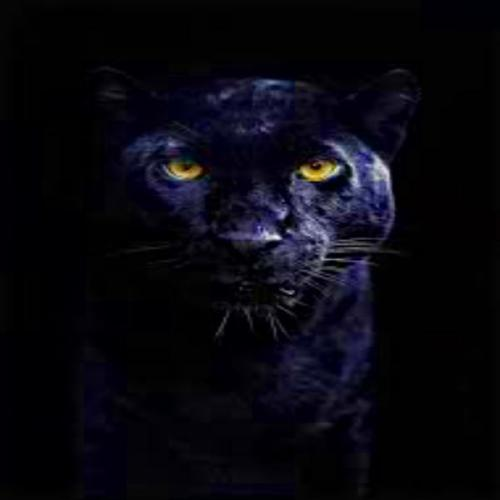panther-endangered: (57, 52, 423, 500)
